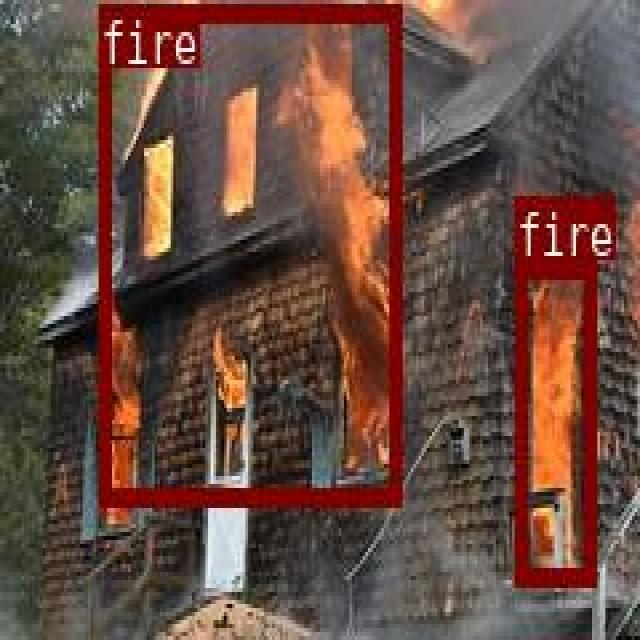fire: (97, 3, 399, 502), (513, 257, 594, 583)
